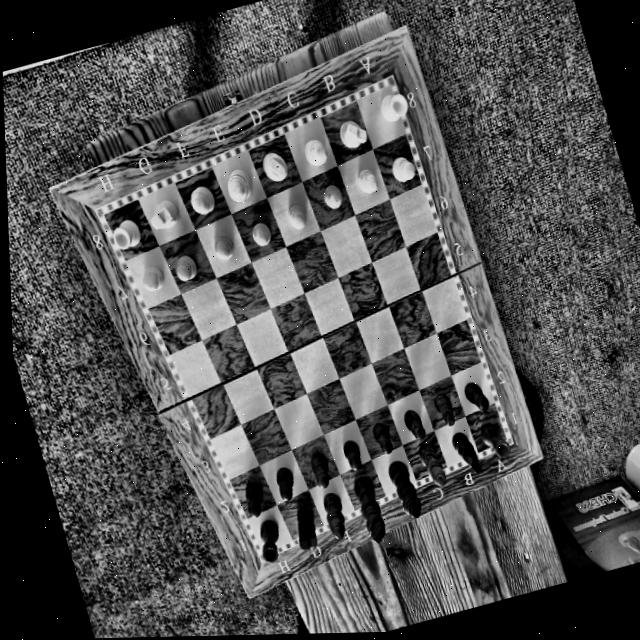black-bishop: (414, 436, 450, 491), (317, 488, 351, 542)
black-king: (347, 472, 390, 547)
black-knight: (444, 422, 489, 478), (287, 500, 324, 552)
black-pawn: (268, 462, 303, 505), (235, 478, 270, 520), (459, 376, 493, 417), (303, 448, 336, 490), (428, 388, 460, 431), (366, 416, 397, 460), (337, 434, 367, 475), (399, 403, 428, 445)
black-queen: (384, 456, 424, 523)
black-rook: (250, 516, 289, 564), (475, 414, 512, 462)
white-bishop: (183, 178, 220, 219), (296, 132, 334, 171)
white-king: (256, 144, 294, 185)
white-knight: (142, 192, 185, 236), (332, 108, 372, 153)
white-pawn: (386, 145, 420, 185), (136, 260, 168, 296), (168, 249, 199, 283), (318, 178, 347, 213), (283, 197, 311, 231), (354, 162, 381, 197), (208, 229, 236, 262), (248, 217, 274, 251)
white-queen: (218, 161, 259, 208)
white-rook: (372, 79, 418, 132), (104, 211, 146, 253)
